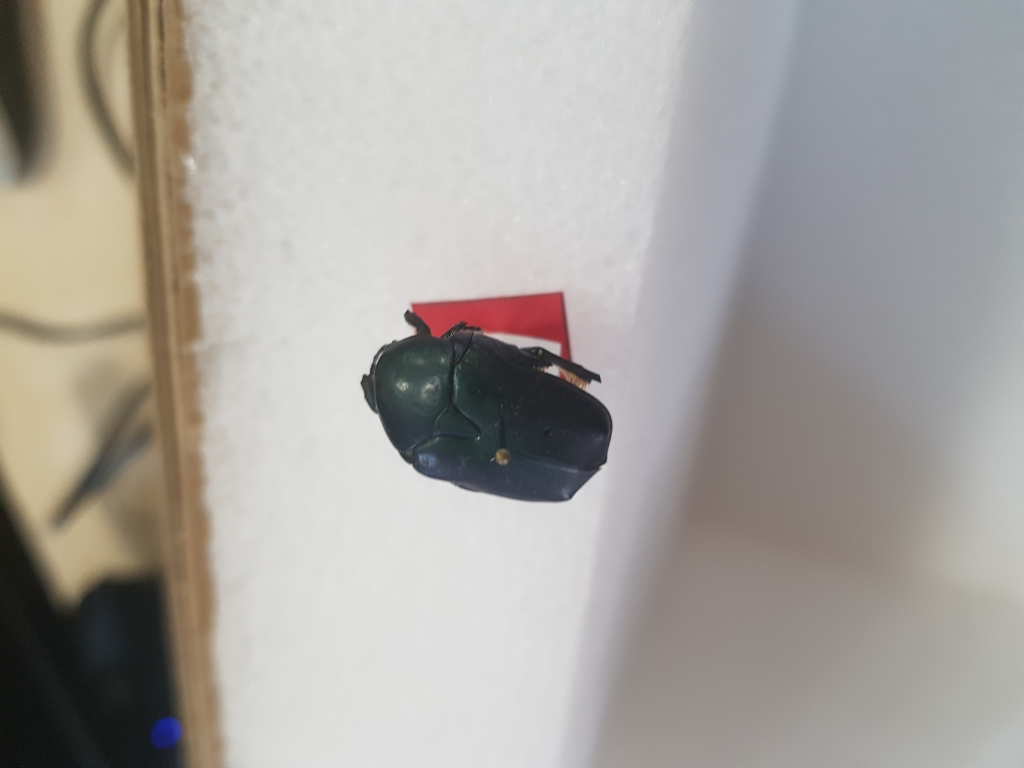Protaetia_afflicta: (352, 306, 620, 511)
